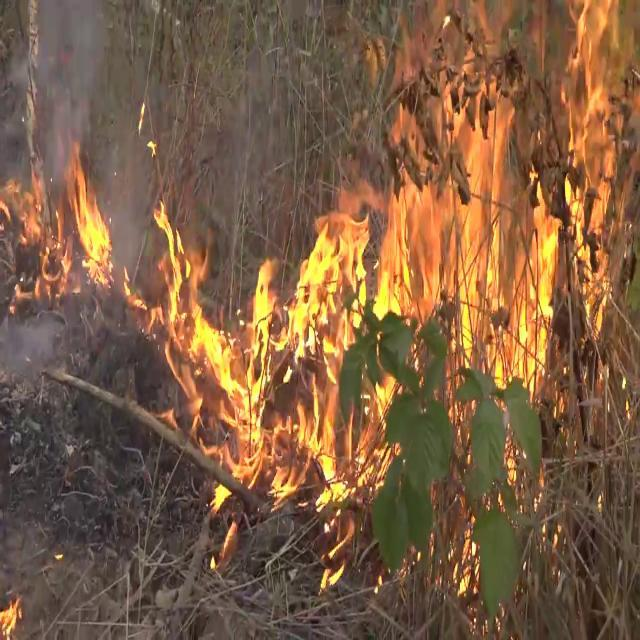Fire: (389, 2, 637, 406), (130, 186, 404, 531), (0, 132, 116, 298), (0, 590, 25, 638)
Smoke: (30, 1, 136, 170)
